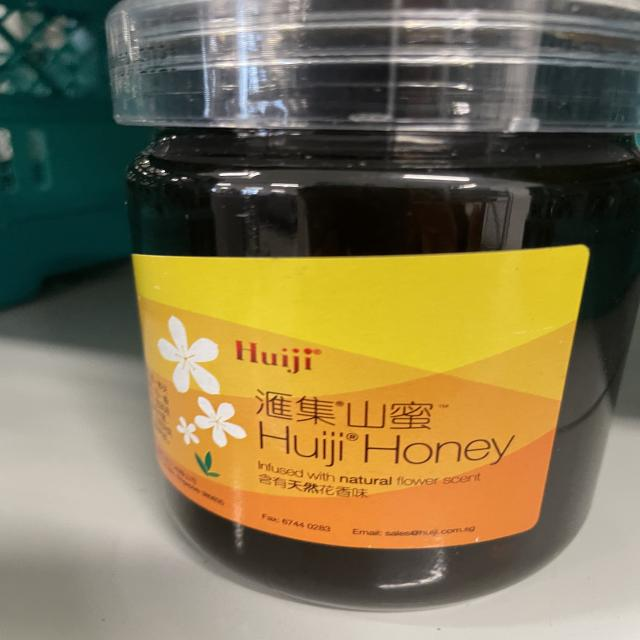object_name: (113, 5, 640, 606)
